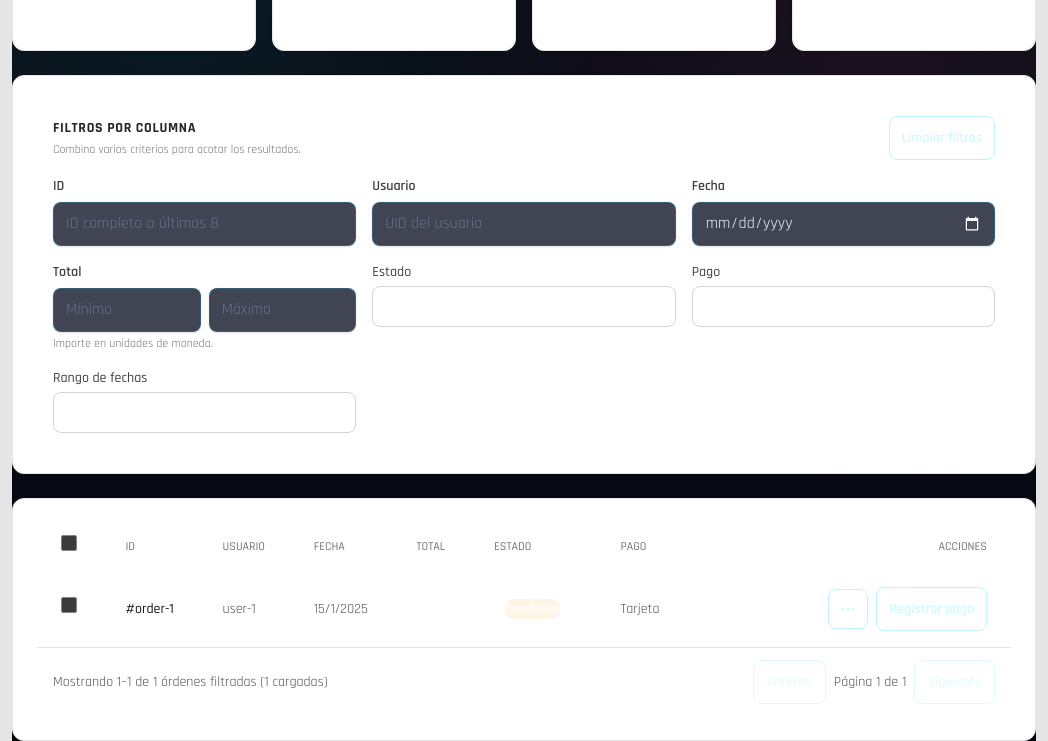
Scenario: AdminOrdersPage › renders orders in table
(page scrolled)
Expected: the text "#order-1" is shown, [102,571,199,647]
Click the button named "Acciones de la orden order-1".
click(848, 609)  # box [828,589,868,629]
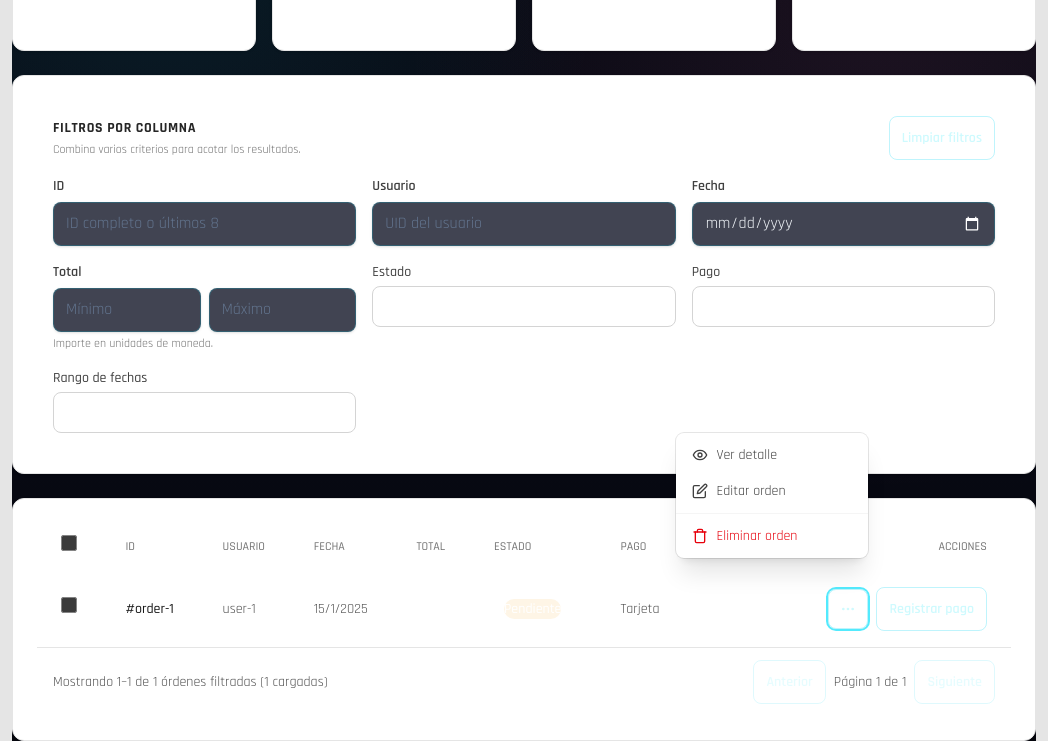
Now the link "Ver detalle" is shown, box [692,446,777,464]
